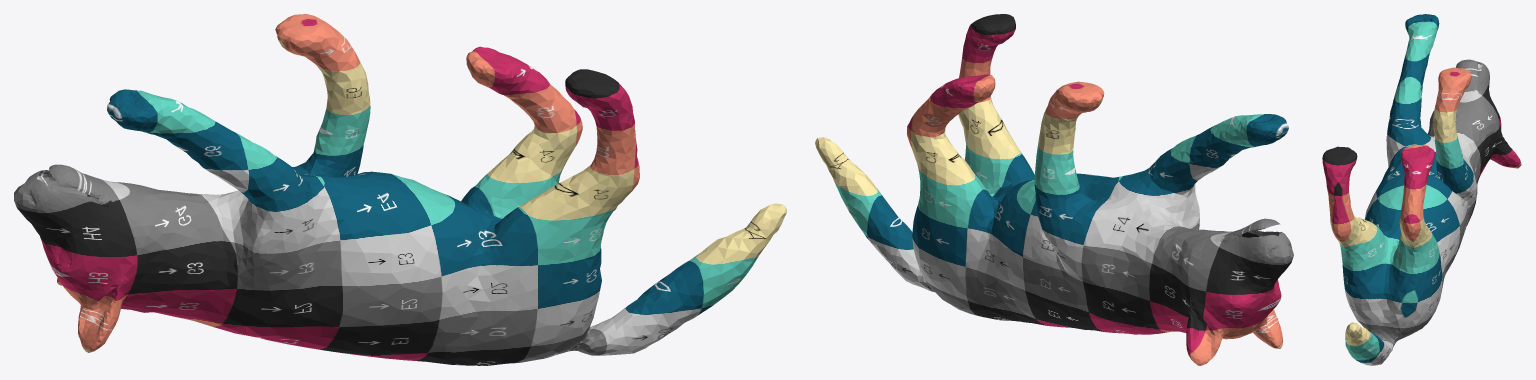
File: wolf_01-wolf_01.obj
3 views of the same model, side by side, from view 1: azimuth 30°, elevation 25°; view 2: azimuth 150°, elevation 25°; view 3: azimuth 270°, elevation 25° (orthographic). The views are drawn at different scales.
Parts seen in each view (by area): view 1: wolf_01-wolf_01_export; view 2: wolf_01-wolf_01_export; view 3: wolf_01-wolf_01_export.
Part boxes in pixels (left/top/right/bottom): wolf_01-wolf_01_export: left=14, top=14, right=786, bottom=365; wolf_01-wolf_01_export: left=815, top=14, right=1293, bottom=365; wolf_01-wolf_01_export: left=1322, top=14, right=1521, bottom=365.
Size of the model in its own units: 1.14 by 0.5608 by 0.4731.
